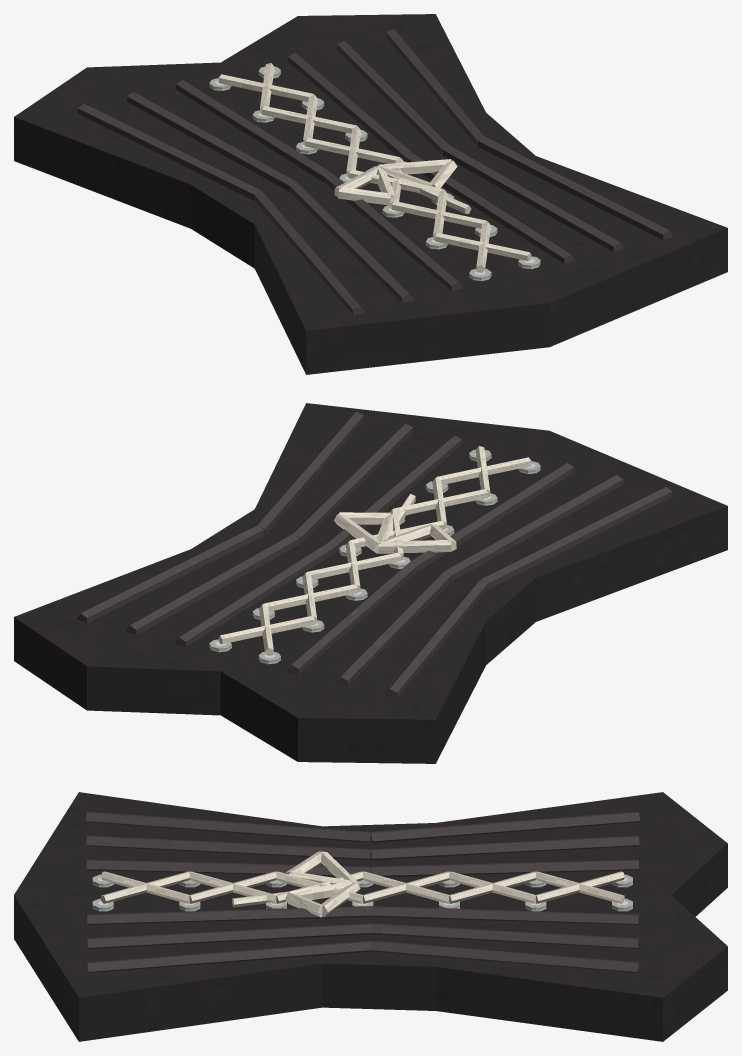
File: corset.glb
3 views of the same model, one above another, from view 1: azimuth 30°, elevation 25°; view 2: azimuth 150°, elevation 25°; view 3: azimuth 270°, elevation 25° (orthographic).
Visible parts, largest first — view 1: block_leather corset body, block_steel boning channel 1 (×6), block_steel boning channel 0 (×6), block_crossed lace 0 (×5), block_lace bow 0, block_lace bow 4; view 2: block_leather corset body, block_steel boning channel 0 (×6), block_steel boning channel 1 (×6), block_crossed lace 0 (×5), block_lace bow 3, block_lace bow 0; view 3: block_leather corset body, block_steel boning channel 1 (×6), block_steel boning channel 0 (×6), block_crossed lace 0 (×11), block_lace bow 2, block_lace bow 0, block_lace bow 1, block_lace bow 3.
Boxes of the visible parts, x1,y1,x2,y2 form: block_leather corset body: (14, 14, 727, 374); block_steel boning channel 1 (×6): (254, 136, 672, 314); block_steel boning channel 0 (×6): (78, 28, 484, 200); block_crossed lace 0 (×5): (218, 74, 531, 260); block_lace bow 0: (378, 159, 451, 174); block_lace bow 4: (338, 186, 390, 205); block_leather corset body: (14, 403, 727, 763); block_steel boning channel 0 (×6): (77, 525, 487, 697); block_steel boning channel 1 (×6): (257, 411, 672, 589); block_crossed lace 0 (×5): (218, 457, 531, 644); block_lace bow 3: (378, 540, 451, 553); block_lace bow 0: (333, 514, 378, 553); block_leather corset body: (14, 792, 727, 1041); block_steel boning channel 1 (×6): (85, 811, 370, 972); block_steel boning channel 0 (×6): (371, 811, 639, 972); block_crossed lace 0 (×11): (100, 871, 624, 903); block_lace bow 2: (289, 881, 354, 900); block_lace bow 0: (321, 882, 360, 917); block_lace bow 1: (285, 892, 322, 917); block_lace bow 3: (320, 851, 359, 885).
Bounding box in the file's own units: 0.2277 × 0.0313 × 0.3339.
2 materials, 2 textured.
